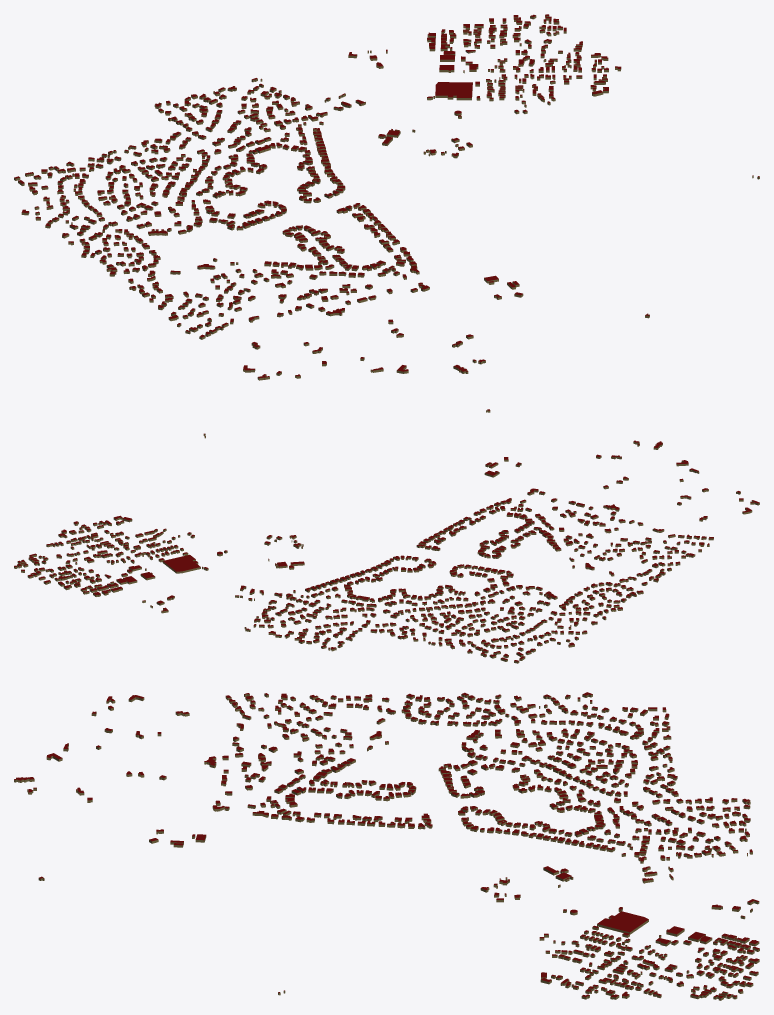
3 renders of one model, top to bottom at view 1: azimuth 30°, elevation 25°; view 2: azimuth 150°, elevation 25°; view 3: azimuth 270°, elevation 25°, orthographic. The views are drawn at different scales.
Visible parts, largest first — view 1: Building358; view 2: Building358; view 3: Building358.
Boxes of the visible parts, x1=… form: Building358: x1=435, y1=82, x2=472, y2=100; Building358: x1=162, y1=554, x2=200, y2=573; Building358: x1=597, y1=911, x2=648, y2=934.
Size of the model in its own units: 2018 by 7.5 by 2077.
